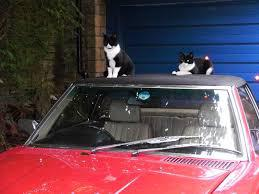Front-Windscreen-Damage: (37, 78, 247, 164)
